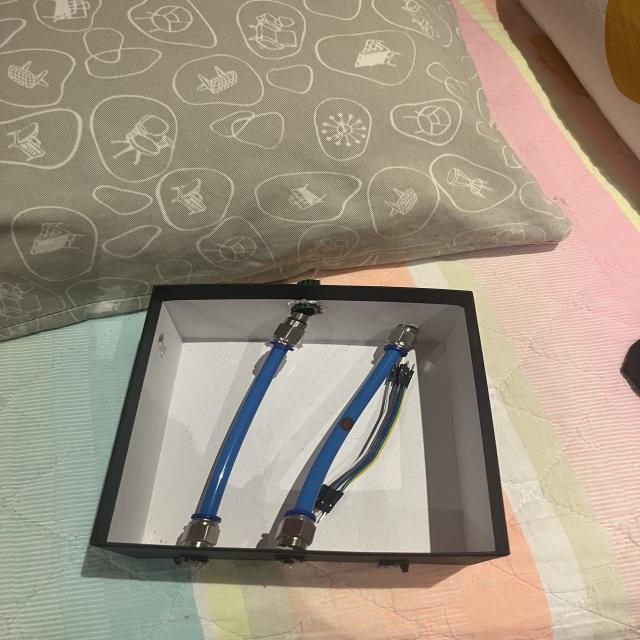hose_damage: (338, 417, 356, 432)
